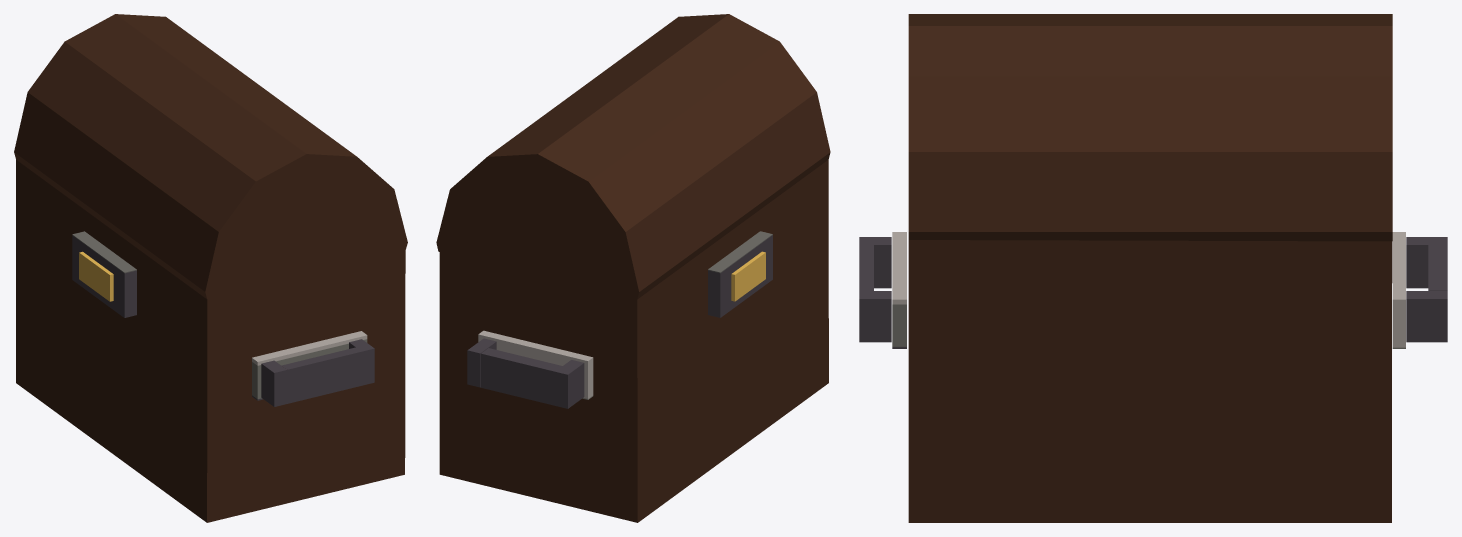
Rendered from Chest.fbx.
3 renders of one model, left to right at view 1: azimuth 30°, elevation 25°; view 2: azimuth 150°, elevation 25°; view 3: azimuth 270°, elevation 25°, orthographic. The views are drawn at different scales.
Visible parts, largest first — view 1: Cube.021; view 2: Cube.021; view 3: Cube.021.
Part boxes in pixels (x1,y1,x2,y2): Cube.021: (14,14,407,522); Cube.021: (436,14,830,522); Cube.021: (859,14,1447,522).
Size of the model in its own units: 0.8458 by 1.28 by 1.56.
